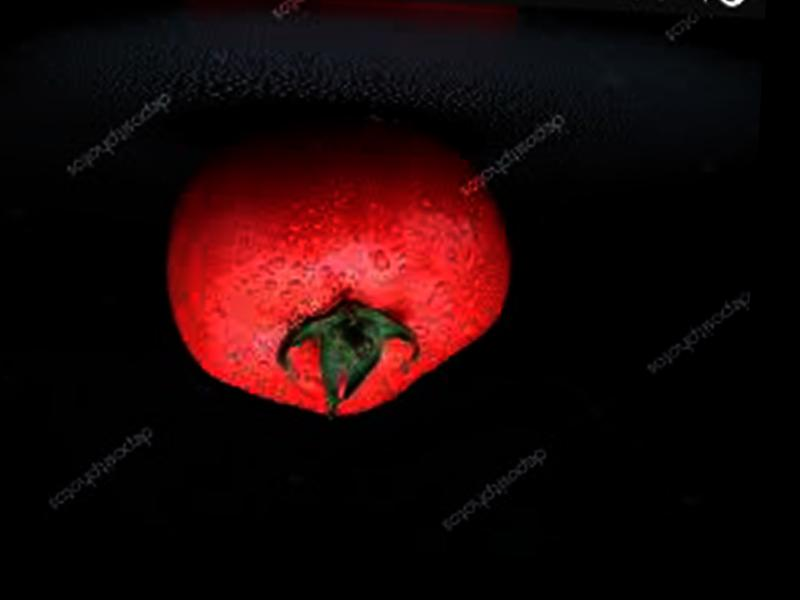Tomato: (155, 108, 520, 428)
